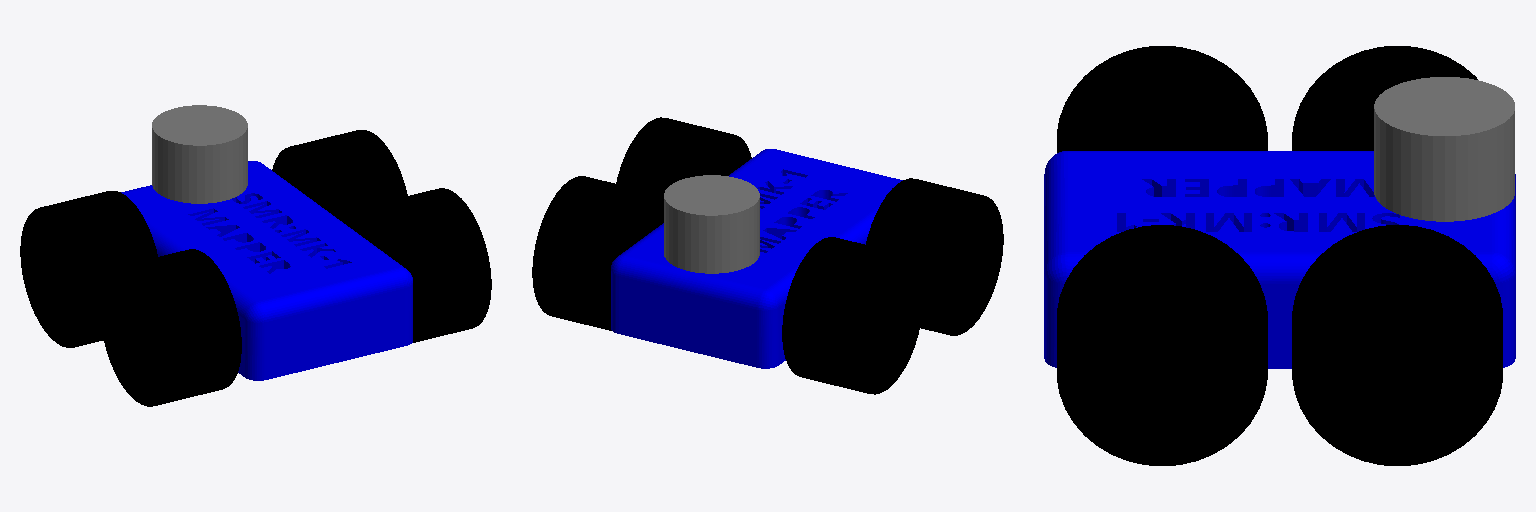
The robot description file, URDF, robot "mapper":
<?xml version="1.0" encoding="utf-8"?>
<!-- This URDF was automatically created by SolidWorks to URDF Exporter! Originally created by [author] ([email redacted])
     Commit Version: 1.6.0-4-g7f85cfe  Build Version: 1.6.7995.38578
     For more information, please see http://wiki.ros.org/sw_urdf_exporter -->
<robot name="mapper" xmlns:xacro="http://www.ros.org/wiki/xacro">
  <link name="world"/>
  <!-- Base Link -->
  <link name="base">
    <visual>
      <origin xyz="-0.032357352349208667874 -0.026099631679244339466 0.010199828612239798115" rpy="0 -0 0" />
      <geometry>
        <mesh filename="package://smr_mk1/meshes/base.dae"/>
      </geometry>
      <material name="">
        <color rgba="0 0 1 1.0"/>
      </material>
    </visual>
    <collision>
      <origin xyz="-0.032357352349208667874 -0.026099631679244339466 0.010199828612239798115" rpy="0 -0 0" />
      <geometry>
        <mesh filename="package://smr_mk1/meshes/base.dae"/>
      </geometry>
    </collision>
    <inertial>
      <origin xyz="-0.032503829119351485 -0.025520057595977974074 0.022735266158650530716" rpy="0 0 0"/>
      <mass value="0.38013771694769277198" />
      <inertia ixx="0.00035046798151367673487" ixy="-1.1953578983760943577e-07" ixz="-1.9730955444573732889e-09" iyy="0.00015287781224622583841" iyz="-2.2187963697490440465e-06" izz="0.00046327180845463929691" />
    </inertial>
  </link>
  <joint name="dummy" type="fixed">
    <!-- <origin xyz="0.0051426476507913376768 -0.0010996316792443419814 0.022699828612239798808" rpy="-1.570796326794896558 -0 1.570796326794896558" /> -->
    <parent link="world" />
    <child link="base" />
    <!-- <axis xyz="0 0 1"/> -->
  </joint>

  <!-- Wheel 1 -->
  <link name="wheel_1">
    <visual>
      <origin xyz="0 0 -0.020000000000000000416" rpy="-1.570796326794896558 -1.570796326794896558 0" />
      <geometry>
        <mesh filename="package://smr_mk1/meshes/wheel.dae"/>
      </geometry>
      <material name="">
        <color rgba="0 0 0 1.0"/>
      </material>
    </visual>
    <collision>
      <origin xyz="0 0 -0.020000000000000000416" rpy="-1.570796326794896558 -1.570796326794896558 0" />
      <geometry>
        <mesh filename="package://smr_mk1/meshes/wheel.dae"/>
      </geometry>
    </collision>
    <inertial>
      <origin xyz="-1.8942974949788100334e-19 1.3110901189542138426e-18 -0.0070034071541546019657" rpy="0 0 0"/>
      <mass value="0.047160230318905801972" />
      <inertia ixx="8.757176544575715827e-06" ixy="0" ixz="0" iyy="8.7571765445757141329e-06" iyz="0" izz="1.3097847965326626509e-05" />
    </inertial>
  </link>

  <joint name="front_right" type="continuous">
    <origin xyz="0.0051426476507913376768 -0.0010996316792443419814 0.022699828612239798808" rpy="-1.570796326794896558 -0 1.570796326794896558" />
    <parent link="base" />
    <child link="wheel_1" />
    <axis xyz="0 0 1"/>
    <limit effort="1" velocity="20" />
    <joint_properties friction="0.0"/>
  </joint>

  <!-- Wheel 2 -->
  <link name="wheel_2">
    <visual>
      <origin xyz="0 0 -0.020000000000000003886" rpy="-1.570796326794896558 -1.570796326794896558 0" />
      <geometry>
        <mesh filename="package://smr_mk1/meshes/wheel.dae"/>
      </geometry>
      <material name="">
        <color rgba="0 0 0 1.0"/>
      </material>
    </visual>
    <collision>
      <origin xyz="0 0 -0.020000000000000003886" rpy="-1.570796326794896558 -1.570796326794896558 0" />
      <geometry>
        <mesh filename="package://smr_mk1/meshes/wheel.dae"/>
      </geometry>
    </collision>
    <inertial>
      <origin xyz="-1.8942974949788100334e-19 1.3110901189542138426e-18 -0.0070034071541546054351" rpy="0 0 0"/>
      <mass value="0.047160230318905801972" />
      <inertia ixx="8.757176544575715827e-06" ixy="0" ixz="0" iyy="8.7571765445757141329e-06" iyz="0" izz="1.3097847965326626509e-05" />
    </inertial>
  </link>

  <joint name="front_left" type="continuous">
    <origin xyz="-0.069857352349208673425 -0.051099631679244347793 0.022699828612239798808" rpy="1.570796326794896558 -0 1.57079632679489678" />
    <parent link="base" />
    <child link="wheel_2" />
    <axis xyz="0 0 1"/>
    <limit effort="1" velocity="20" />
    <joint_properties friction="0.0"/>
  </joint>

  <!-- Wheel 3 -->
  <link name="wheel_3">
    <visual>
      <origin xyz="0 0 -0.020000000000000000416" rpy="-1.570796326794896558 -1.570796326794896558 0" />
      <geometry>
        <mesh filename="package://smr_mk1/meshes/wheel.dae"/>
      </geometry>
      <material name="">
        <color rgba="0 0 0 1.0"/>
      </material>
    </visual>
    <collision>
      <origin xyz="0 0 -0.020000000000000000416" rpy="-1.570796326794896558 -1.570796326794896558 0" />
      <geometry>
        <mesh filename="package://smr_mk1/meshes/wheel.dae"/>
      </geometry>
    </collision>
    <inertial>
      <origin xyz="-1.8942974949788100334e-19 1.3110901189542138426e-18 -0.0070034071541546019657" rpy="0 0 0"/>
      <mass value="0.047160230318905801972" />
      <inertia ixx="8.757176544575715827e-06" ixy="0" ixz="0" iyy="8.7571765445757141329e-06" iyz="0" izz="1.3097847965326626509e-05" />
    </inertial>
  </link>

  <joint name="rear_right" type="continuous">
    <origin xyz="0.0051426476507913307379 -0.051099631679244347793 0.022699828612239798808" rpy="-1.570796326794896558 -0 1.570796326794896558" />
    <parent link="base" />
    <child link="wheel_3" />
    <axis xyz="0 0 1"/>
    <limit effort="1" velocity="20" />
    <joint_properties friction="0.0"/>
  </joint>

  <!-- Wheel 4 -->
  <link name="wheel_4">
    <visual>
      <origin xyz="2.168404344971008868e-19 0 -0.020000000000000003886" rpy="-1.570796326794896558 -1.570796326794896558 0" />
      <geometry>
        <mesh filename="package://smr_mk1/meshes/wheel.dae"/>
      </geometry>
      <material name="">
        <color rgba="0 0 0 1.0"/>
      </material>
    </visual>
    <collision>
      <origin xyz="2.168404344971008868e-19 0 -0.020000000000000003886" rpy="-1.570796326794896558 -1.570796326794896558 0" />
      <geometry>
        <mesh filename="package://smr_mk1/meshes/wheel.dae"/>
      </geometry>
    </collision>
    <inertial>
      <origin xyz="2.7410684999219883461e-20 1.3110901189542138426e-18 -0.0070034071541546054351" rpy="0 0 0"/>
      <mass value="0.047160230318905801972" />
      <inertia ixx="8.757176544575715827e-06" ixy="0"  ixz="0" iyy="8.7571765445757141329e-06" iyz="0" izz="1.3097847965326626509e-05" />
    </inertial>
  </link>



  <joint name="rear_left" type="continuous">
    <origin xyz="-0.069857352349208673425 -0.0010996316792443419814 0.022699828612239798808" rpy="1.570796326794896558 -0 1.57079632679489678" />
    <parent link="base" />
    <child link="wheel_4" />
    <axis xyz="0 0 1"/>
    <limit effort="1" velocity="20" />
    <joint_properties friction="0.0"/>
  </joint>

  <link name="lidar">
    <visual>
      <origin xyz="0 0 0.004999999999999997502" rpy="3.141592653589793116 -0 0" />
      <geometry>
        <mesh filename="package://smr_mk1/meshes/lidar.dae"/>
      </geometry>
      <material name="">
        <color rgba="0.49803921568627451677 0.49803921568627451677 0.49803921568627451677 1.0"/>
      </material>
    </visual>
    <collision>
      <origin xyz="0 0 0.004999999999999997502" rpy="3.141592653589793116 -0 0" />
      <geometry>
      <mesh filename="package://smr_mk1/meshes/lidar.dae"/>
      </geometry>
    </collision>
    <inertial>
      <origin xyz="3.1910424539196146308e-19 -9.9052314636918277962e-19 -0.0052941176470588241498" rpy="0 0 0"/>
      <mass value="0.016689710972195771765" />
      <inertia ixx="1.5427635798476531786e-06" ixy="0"  ixz="0" iyy="1.5427635798476531786e-06" iyz="0" izz="1.9757672547967058571e-06" />
    </inertial>
  </link>
  
  <joint name="lidar_sensor" type="fixed">
    <origin xyz="-0.032357352349208667874 0.0089003683207556638646 0.042699828612239795755" rpy="3.141592653589793116 -0 0" />
    <parent link="base" />
    <child link="lidar" />
    <axis xyz="0 0 1"/>
    <limit effort="1" velocity="20" />
    <joint_properties friction="0.0"/>
  </joint>

   <!-- Gazebo Plugin for LiDAR -->
  <gazebo reference="lidar">
    <sensor type="ray" name="laser">
      <pose>0 0 0 0 0 0</pose>
      <ray>
        <scan>
          <horizontal>
            <samples>720</samples>
            <resolution>1</resolution>
            <min_angle>-1.5708</min_angle>
            <max_angle>1.5708</max_angle>
          </horizontal>
        </scan>
        <range>
          <min>0.12</min>
          <max>3.5</max>
        </range>
        <noise>
          <type>gaussian</type>
          <mean>0.0</mean>
          <stddev>0.01</stddev>
        </noise>
      </ray>
      <plugin name="gazebo_ros" filename="libgazebo_ros_gpu_laser.so">
        <always_on>true</always_on>
        <update_rate>10</update_rate>
        <topic_name>/scan</topic_name>
        <frame_name>lidar</frame_name>
      </plugin>
    </sensor>
  </gazebo>
  
  <!-- ROS2 Control -->
  <gazebo>
    <plugin filename="libgazebo_ros_diff_drive.so" name="diff_drive">
      <!-- WHEEL INFORMATION -->
      <left_joint>front_left</left_joint>
      <right_joint>front_right</right_joint>
      <wheel_separation>0.065</wheel_separation>
      <wheel_diameter>0.1</wheel_diameter>
      <!-- LIMITS -->
      <max_wheel_torque>200</max_wheel_torque>
      <max_wheel_acceleration>10.0</max_wheel_acceleration>
      <!-- OUTPUT -->
      <odometry_frame>odom</odometry_frame>
      <robot_base_frame>base_link</robot_base_frame>
      <publish_odom>true</publish_odom>
      <publish_odom_tf>true</publish_odom_tf>
      <publish_wheel_tf>true</publish_wheel_tf>
    </plugin>
  </gazebo>
   <!-- Gazebo Plugin for LiDAR -->
  <gazebo reference="lidar">
    <material>Gazebo/Red</material>
    <sensor name="laser" type="ray">
      <pose> 0 0 0 0 0 0 </pose>
      <visualize>true</visualize>
      <update_rate>10</update_rate>
      <ray>
        <scan>
          <horizontal>
            <samples>360</samples>
            <min_angle>-3.14</min_angle>
            <max_angle>3.14</max_angle>
          </horizontal>
        </scan>
        <range>
          <min>0.3</min>
          <max>12</max>
        </range>
      </ray>
      <plugin filename="libgazebo_ros_ray_sensor.so" name="laser_controller">
        <ros>
          <argument>~/out:=scan</argument>
        </ros>
        <output_type>sensor_msgs/LaserScan</output_type>
        <frame_name>lidar</frame_name>
      </plugin>
    </sensor>
  </gazebo>
  


</robot>

--- What the picture shows (computed from the rendered views, not written in the file) ---
3 views of the same robot in one strip: view 1: azimuth 30°, elevation 25°; view 2: azimuth 150°, elevation 25°; view 3: azimuth 270°, elevation 25° (orthographic).
Robot: mapper — 7 links, 6 joints (4 continuous, 2 fixed); root link world; default pose: all joints at 0.
Links seen in each view (by area): view 1: base, wheel_2, wheel_4, wheel_3, lidar, wheel_1; view 2: base, wheel_4, wheel_2, wheel_1, lidar, wheel_3; view 3: wheel_1, wheel_3, base, lidar, wheel_2, wheel_4.
Link boxes in pixels (x1,y1,x2,y2): base: [121, 161, 412, 380]; wheel_2: [101, 249, 241, 406]; wheel_4: [20, 191, 157, 347]; wheel_3: [352, 188, 491, 342]; lidar: [152, 105, 247, 203]; wheel_1: [272, 130, 407, 228]; base: [611, 149, 902, 368]; wheel_4: [782, 237, 922, 394]; wheel_2: [866, 178, 1003, 335]; wheel_1: [532, 176, 663, 330]; lidar: [664, 175, 759, 273]; wheel_3: [616, 117, 751, 198]; wheel_1: [1292, 225, 1502, 465]; wheel_3: [1057, 225, 1267, 465]; base: [1044, 151, 1515, 368]; lidar: [1374, 77, 1514, 221]; wheel_2: [1057, 46, 1267, 152]; wheel_4: [1292, 46, 1477, 150].
Bounding box of the posed robot: 0.115 × 0.1 × 0.0575 m (x, y, z).
6 mesh visuals loaded from 3 distinct referenced files (3 Collada DAE).
